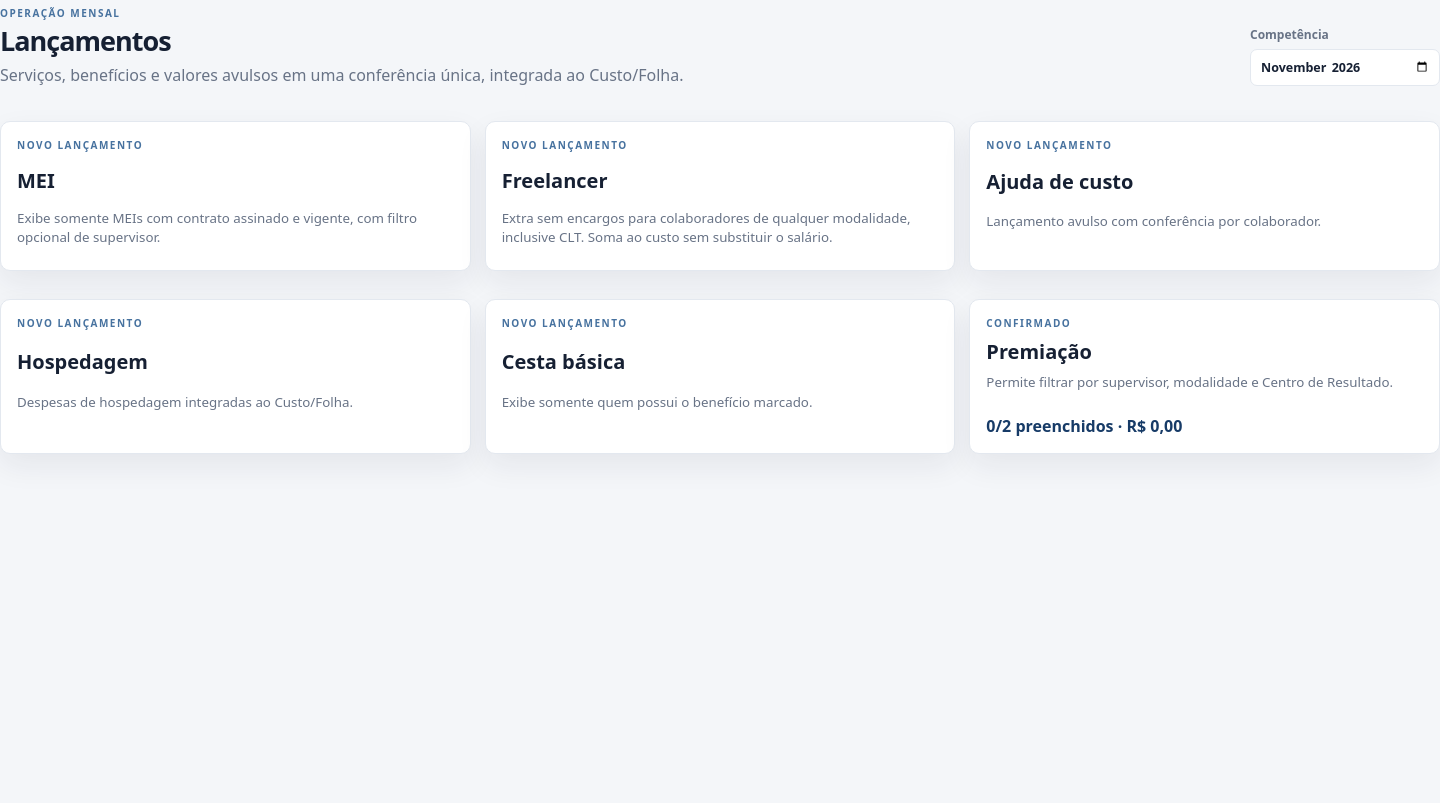
Test: edição de lançamentos › permite corrigir BONUS confirmado
The width and height of the screenshot is (1440, 803).
Click the button with class "launch-kind-card" that starts with "Confirmado": click(1205, 376) [969, 299, 1439, 454]
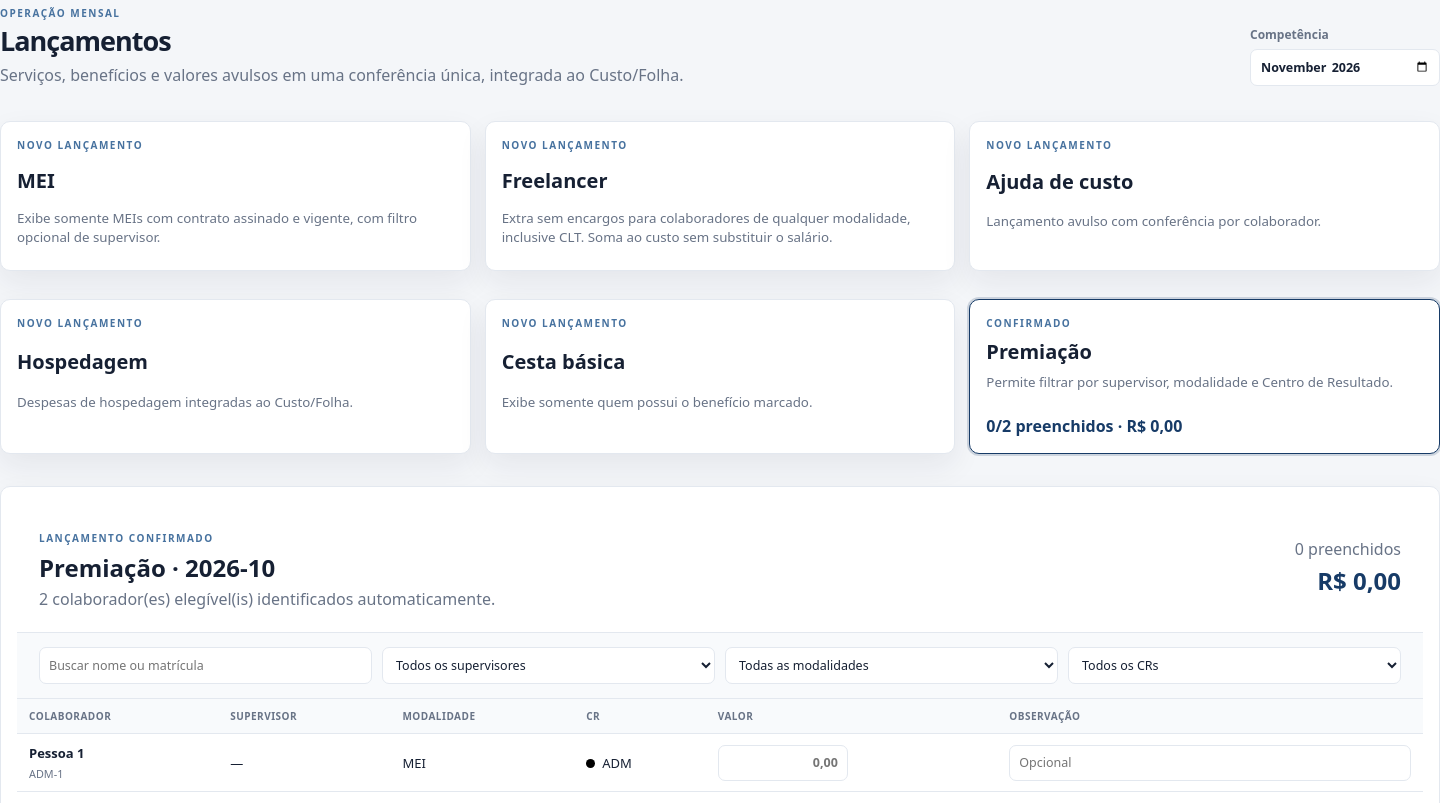
expect the field named "Valor de Pessoa 1" is enabled: met, box [718, 744, 848, 780]
